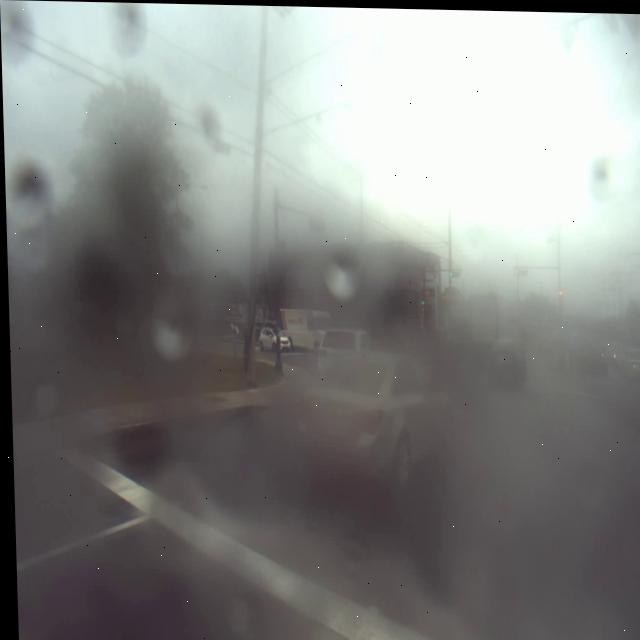car: (285, 343, 454, 506), (480, 334, 525, 386)
